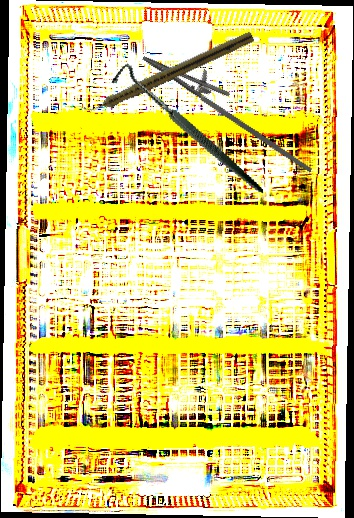Handpiece: (80, 27, 256, 120)
Hook Surgical: (107, 34, 265, 230)
Needle Holder: (130, 41, 331, 174)
